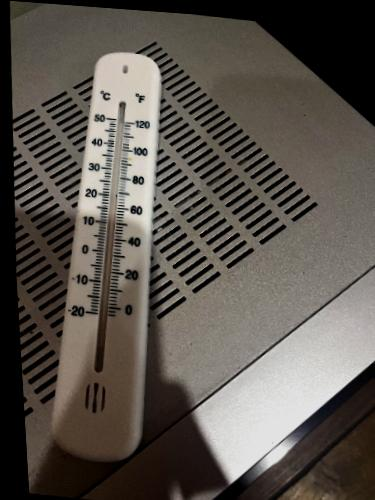thermo: (44, 45, 186, 467)
